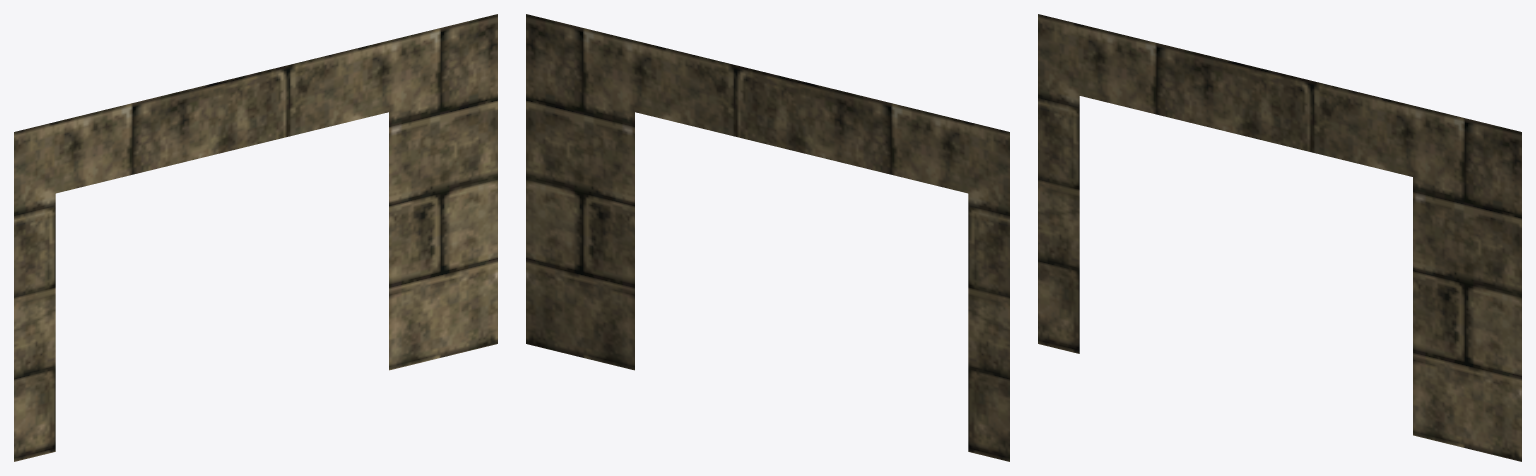
The model's file is OVERHILL_A_01_OBJECT197.fbx.
The picture shows the model from 3 angles, left to right: view 1: azimuth 30°, elevation 25°; view 2: azimuth 150°, elevation 25°; view 3: azimuth 330°, elevation 25°; orthographic projection.
Visible parts, largest first — view 1: OVERHILL_A_01_OBJECT197; view 2: OVERHILL_A_01_OBJECT197; view 3: OVERHILL_A_01_OBJECT197.
Boxes of the visible parts, x1=… form: OVERHILL_A_01_OBJECT197: x1=14, y1=14, x2=497, y2=461; OVERHILL_A_01_OBJECT197: x1=526, y1=14, x2=1009, y2=461; OVERHILL_A_01_OBJECT197: x1=1038, y1=14, x2=1521, y2=461.
Size of the model in its own units: 52745 by 34378 by 0.0544.
Materials: 1 (1 with a texture image).
